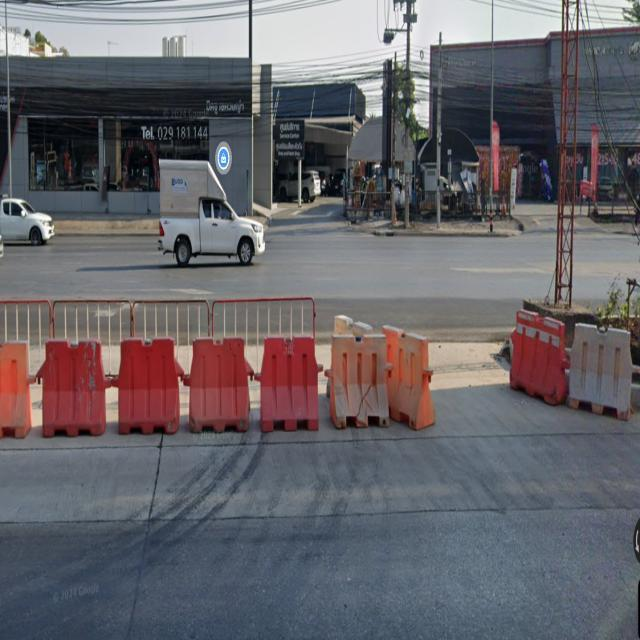fallen_object: (240, 310, 441, 448), (483, 280, 640, 423), (100, 313, 258, 437), (0, 323, 118, 440)
